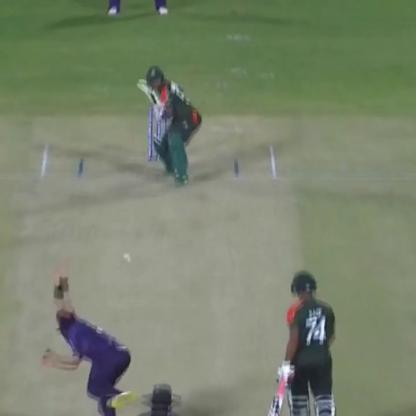ball: (124, 256, 134, 264), (119, 252, 128, 259)
bat: (269, 359, 292, 415), (131, 76, 164, 110)
pitch: (4, 137, 304, 414)
